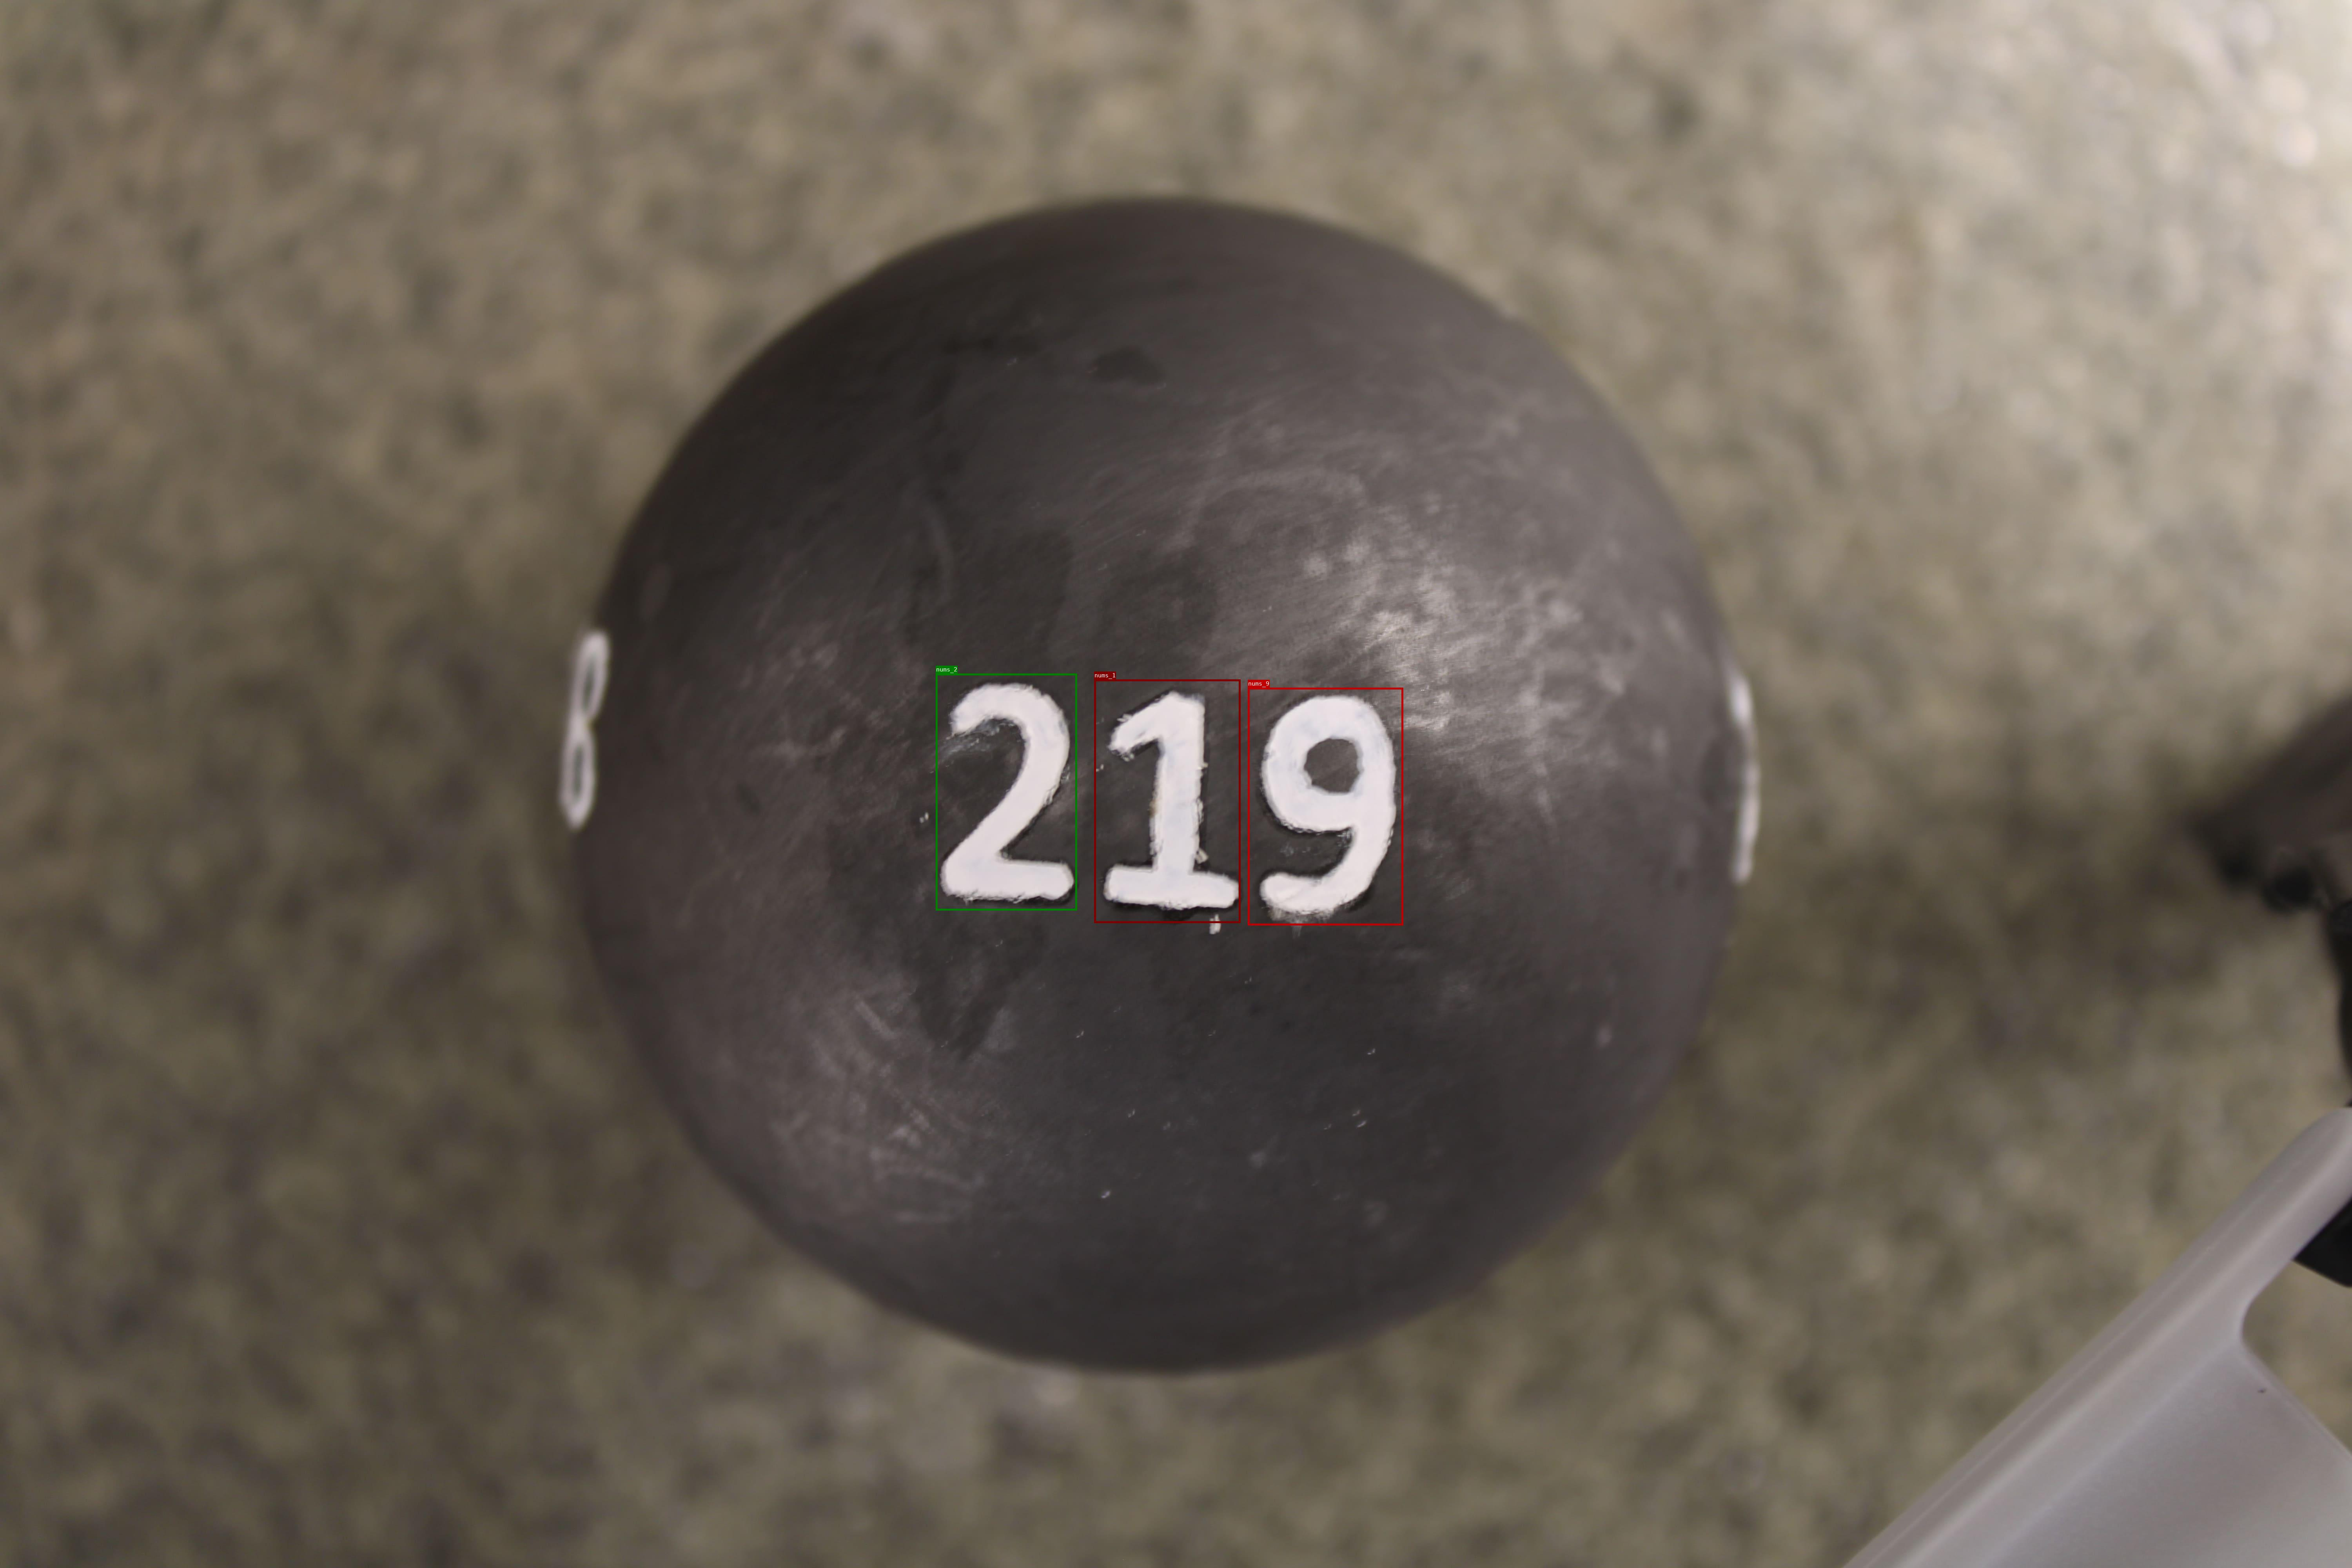nums_1: (1094, 679, 1241, 922)
nums_2: (936, 674, 1076, 910)
nums_9: (1248, 688, 1404, 926)
